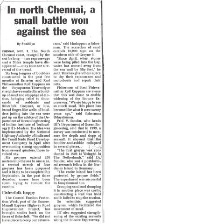news_paper: (0, 0, 121, 224)
